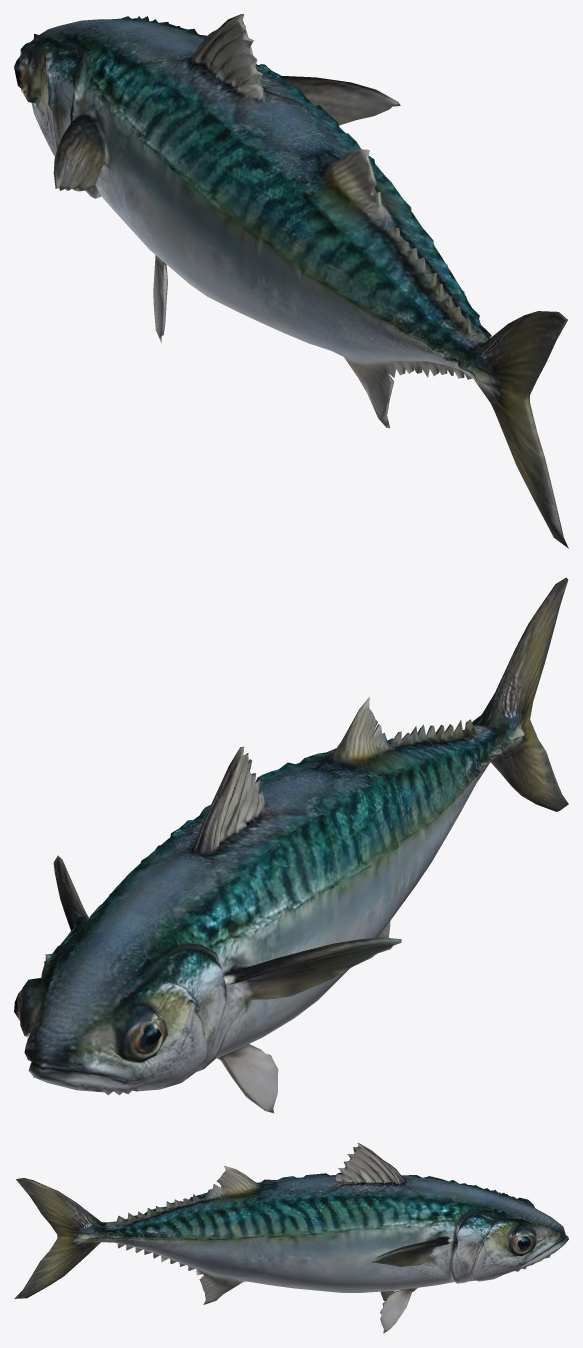
Rendered from mackerel.glb.
3 renders of one model, top to bottom at view 1: azimuth 30°, elevation 25°; view 2: azimuth 150°, elevation 25°; view 3: azimuth 270°, elevation 25°, orthographic. The views are drawn at different scales.
Visible parts, largest first — view 1: tripo_node_760ad932-8a4b-45f3-9a76-81a45e5d2b1c; view 2: tripo_node_760ad932-8a4b-45f3-9a76-81a45e5d2b1c; view 3: tripo_node_760ad932-8a4b-45f3-9a76-81a45e5d2b1c.
Part boxes in pixels (left/top/right/bottom): tripo_node_760ad932-8a4b-45f3-9a76-81a45e5d2b1c: left=14, top=14, right=568, bottom=548; tripo_node_760ad932-8a4b-45f3-9a76-81a45e5d2b1c: left=14, top=577, right=568, bottom=1113; tripo_node_760ad932-8a4b-45f3-9a76-81a45e5d2b1c: left=14, top=1142, right=568, bottom=1333.
Bounding box in the file's own units: 0.378 × 0.351 × 1.
Materials: 1 (1 with a texture image).
